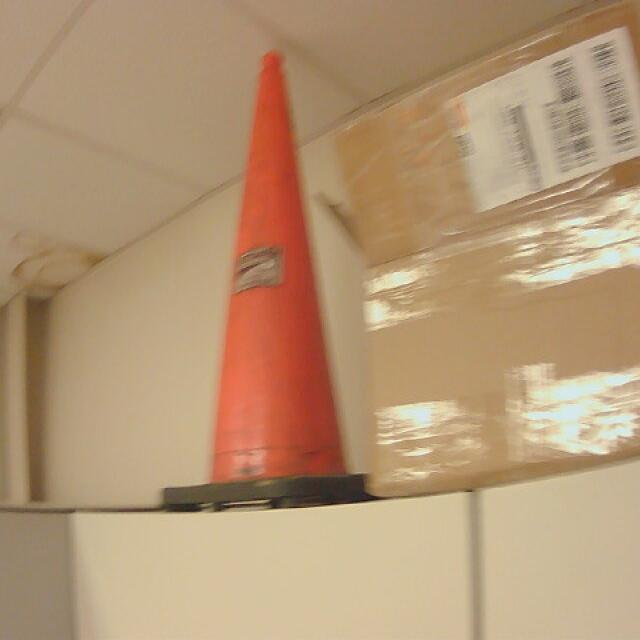traffic cone: (161, 53, 369, 510)
